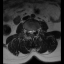CCS_normal: (31, 28, 32, 36)
LFS_normal: (34, 27, 36, 34)
LLS_stenosis: (32, 28, 34, 35)
RFS_normal: (26, 28, 29, 34)
RLS_normal: (29, 28, 31, 35)
